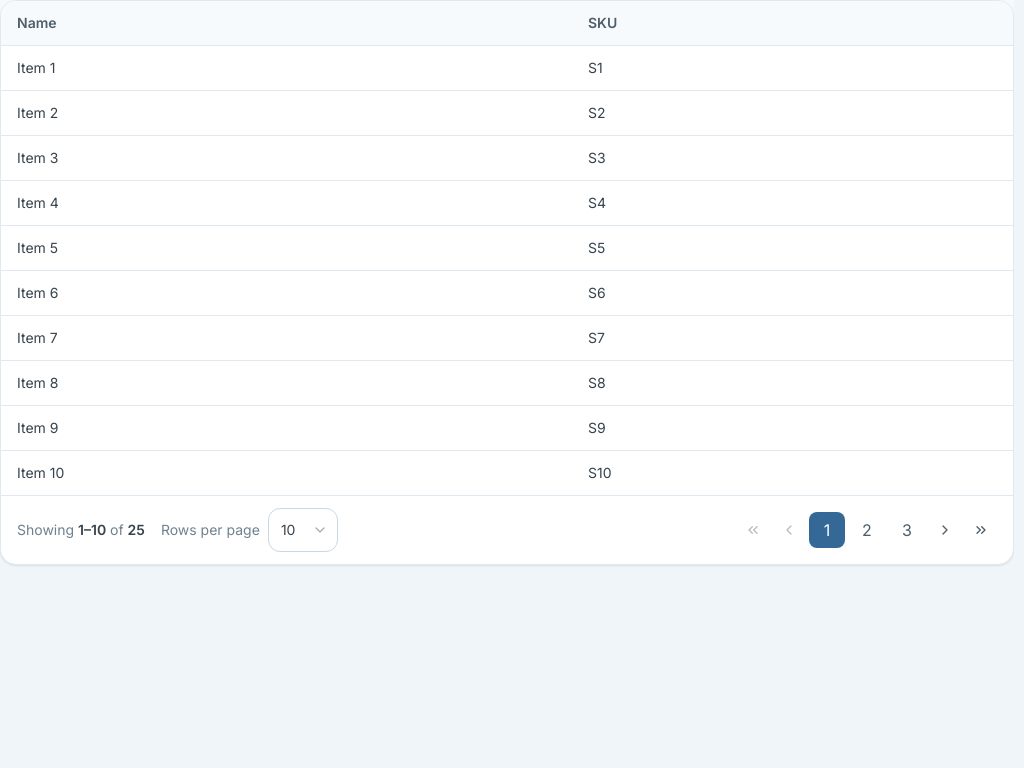
Test: DataTable — client mode › moves to the next page
Click the button named "Next page": (945, 530) [929, 514, 961, 546]
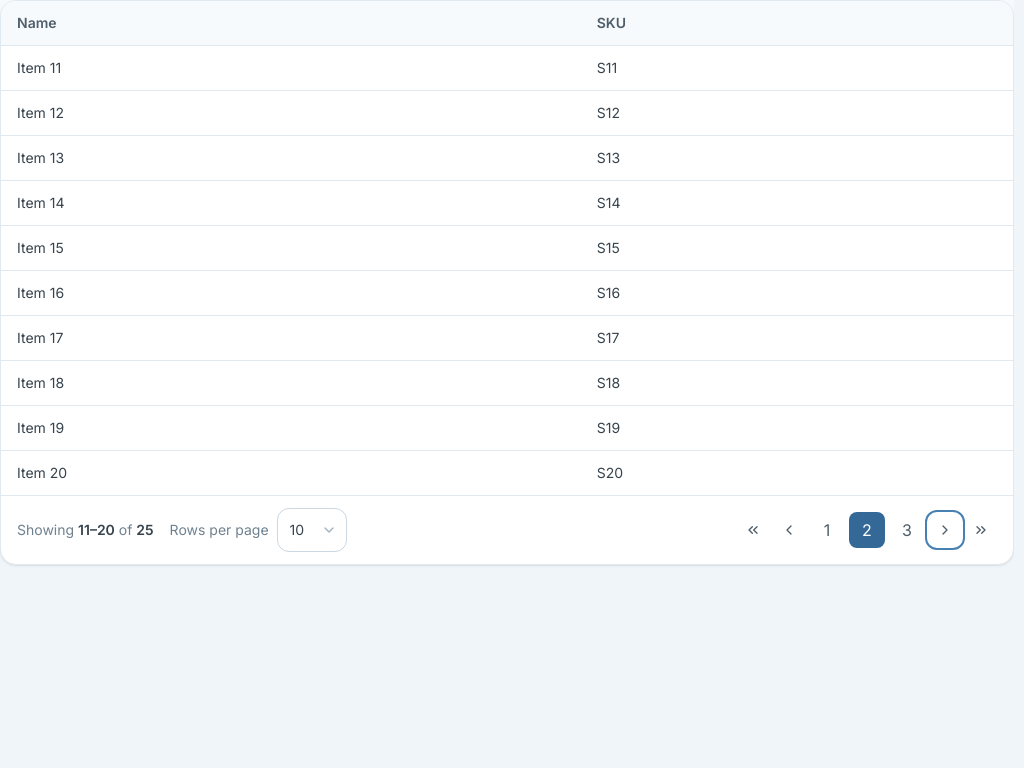
Check: the text "Item 11" is shown, box [1, 46, 581, 90]
